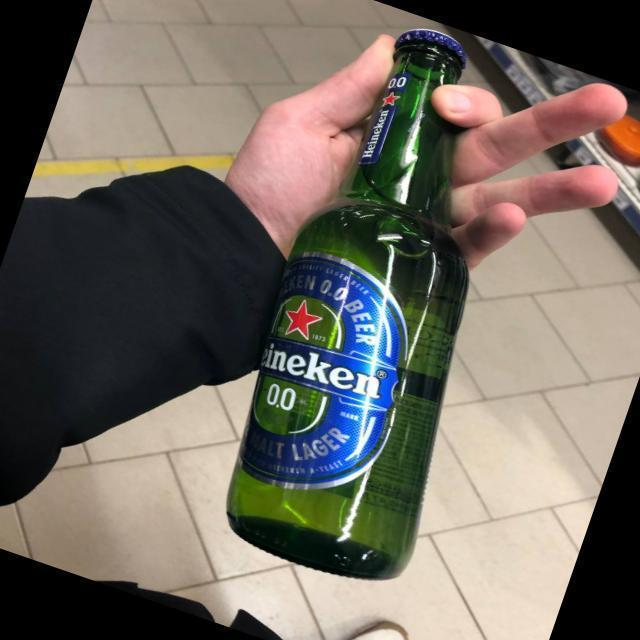Glass: (226, 0, 471, 580)
